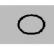no answer: (14, 12, 49, 36)
